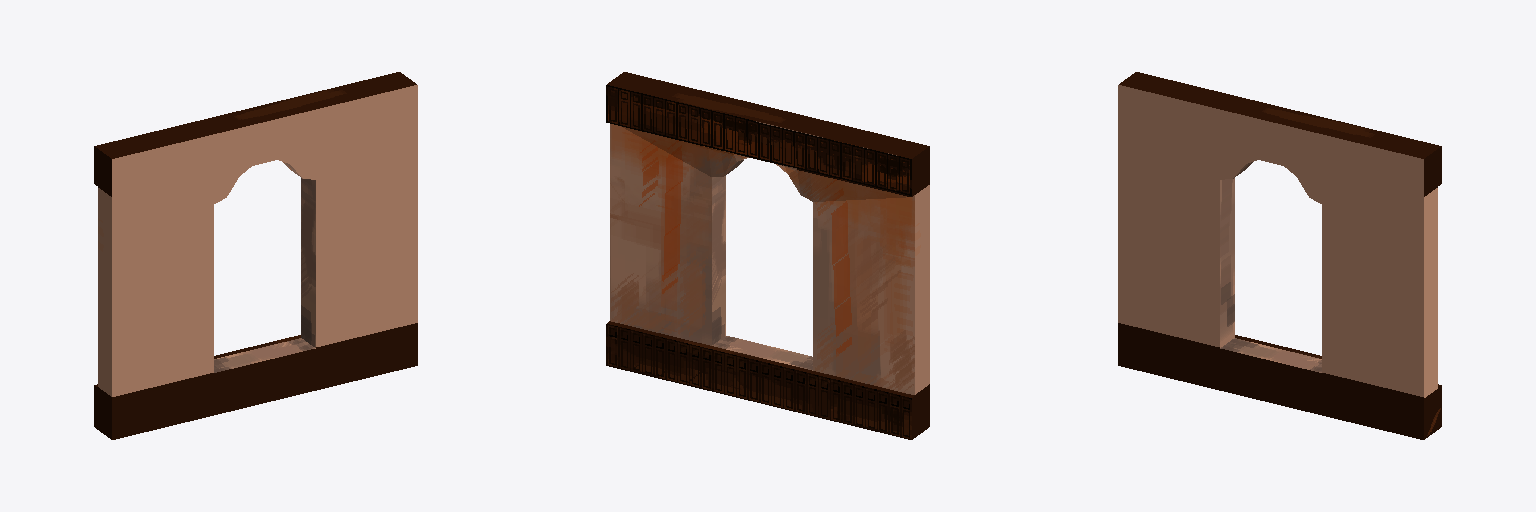
3 renders of one model, left to right at view 1: azimuth 30°, elevation 25°; view 2: azimuth 150°, elevation 25°; view 3: azimuth 330°, elevation 25°, orthographic.
Parts seen in each view (by area): view 1: cuboid; view 2: cuboid; view 3: cuboid.
Boxes of the visible parts, x1=… form: cuboid: x1=94, y1=72, x2=417, y2=439; cuboid: x1=606, y1=72, x2=929, y2=439; cuboid: x1=1118, y1=72, x2=1441, y2=439.
Bounding box in the file's own units: 3.25 × 2.86 × 0.3281.
Materials: 1 (1 with a texture image).